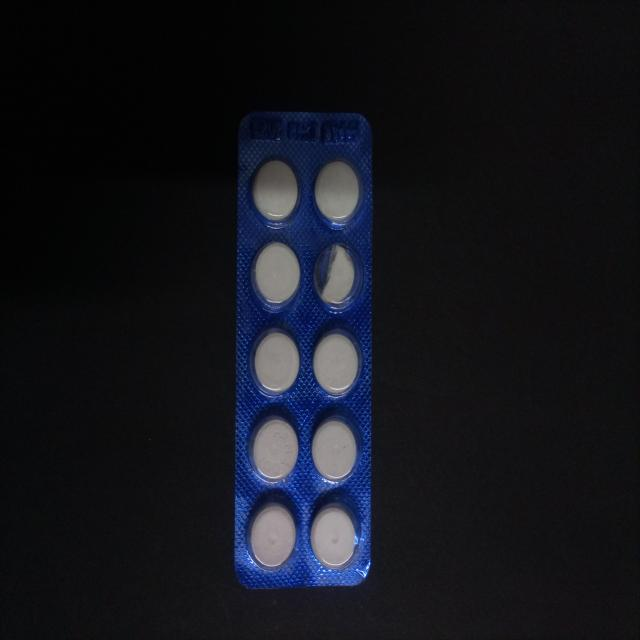defect: (311, 239, 364, 315)
